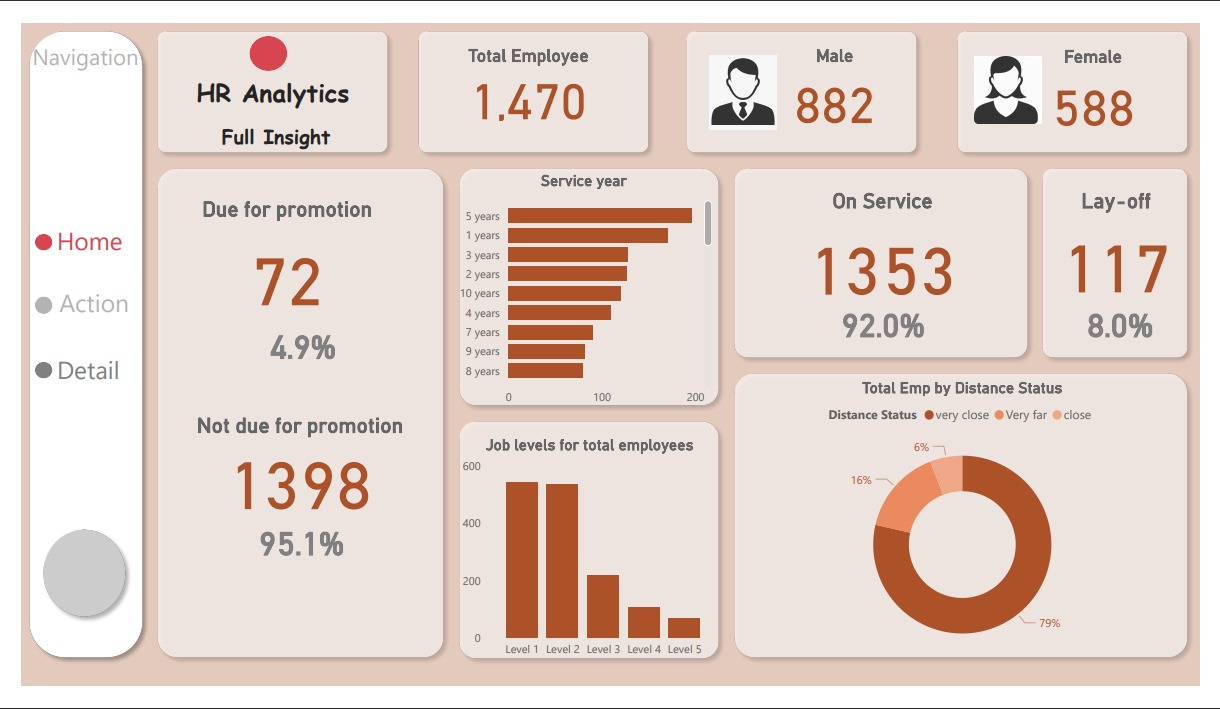

The dashboard page shown, as its layout file describes it:
{"tool":"powerbi","page":{"name":"Page 1","canvas":[1280,720],"ordinal":0},"visuals":[{"type":"shape","box":[0,0,139.9,697.7],"z":0},{"type":"shape","box":[139.9,0,267,149.4],"z":1000},{"type":"shape","box":[139.9,149.4,327.4,548.3],"z":2000},{"type":"shape","box":[467.3,149.4,298.8,275],"z":3000},{"type":"shape","box":[467.3,424.4,298.8,275],"z":4000},{"type":"shape","box":[766.1,149.4,335.4,222.5],"z":5000},{"type":"shape","box":[1101.5,149.4,173.2,222.5],"z":6000},{"type":"shape","box":[766.1,371.9,508.6,325.8],"z":7000},{"type":"shape","box":[422.8,0,267,149.4],"z":8000},{"type":"shape","box":[713.6,0,267,149.4],"z":9000},{"type":"shape","box":[1007.7,0,267,149.4],"z":10000},{"type":"textbox","box":[139.9,52.5,267,49.3],"z":11000},{"type":"textbox","box":[152.6,101.7,247.9,47.7],"z":12000},{"type":"shape","box":[247.9,14.3,41.3,38.1],"z":13000},{"type":"card","title":"Total Employee","fields":{"Values":["All Measures.Total Emp"]},"box":[400.5,23.8,300.4,87.4],"z":14000},{"type":"card","title":"Male","fields":{"Values":["All Measures.Male"]},"box":[766.1,23.8,235.2,95.4],"z":15000},{"type":"card","title":"Female","fields":{"Values":["All Measures.Female"]},"box":[1071.3,25.4,186,98.5],"z":16000},{"type":"image","box":[742.3,28.6,82.6,92.2],"z":17000},{"type":"image","box":[1029.9,30.2,82.6,84.2],"z":18000},{"type":"card","title":"Due for promotion","fields":{"Values":["All Measures.Due for promotion"]},"box":[139.3,189.3,300,136.7],"z":19000},{"type":"card","fields":{"Values":["All Measures.% due for promotion"]},"box":[205,311.5,201.9,74.7],"z":20000},{"type":"card","title":"Not due for promotion","fields":{"Values":["All Measures.not Due for promotion"]},"box":[152.6,424.4,300.4,109.7],"z":21000},{"type":"card","fields":{"Values":["All Measures.%Not due"]},"box":[225.7,542,157.4,41.3],"z":22000},{"type":"barChart","title":"Service year","fields":{"Category":["HR Analytics Data.Service year"],"Y":["All Measures.Total Emp"]},"box":[467.3,160.5,287.7,263.8],"z":23000},{"type":"columnChart","title":"Job levels for total employees","fields":{"Category":["HR Analytics Data.Job levels"],"Y":["All Measures.Total Emp"]},"box":[473.6,448.2,287.7,249.5],"z":24000},{"type":"card","title":"On Service","fields":{"Values":["All Measures.on service"]},"box":[785.2,179.6,300.4,131.9],"z":25000},{"type":"card","fields":{"Values":["All Measures.%on service"]},"box":[858.3,292.5,155.8,66.8],"z":26000},{"type":"card","title":"Lay-off","fields":{"Values":["All Measures.lay-off"]},"box":[1107.8,179.6,162.1,127.2],"z":27000},{"type":"card","fields":{"Values":["All Measures.%lay-off"]},"box":[1141.2,281.3,104.9,89],"z":28000},{"type":"donutChart","fields":{"Category":["HR Analytics Data.Distance Status"],"Y":["All Measures.Total Emp"]},"box":[786.8,386.2,470.5,311.5],"z":29000},{"type":"textbox","box":[0,14.3,139.9,63.6],"z":30000},{"type":"textbox","box":[34,212.7,106,68.7],"z":31000},{"type":"shape","box":[15.3,228.7,18.7,18.7],"z":32000},{"type":"textbox","box":[24.7,280,109.3,46],"z":33000},{"type":"shape","box":[15.3,297.3,18.7,18.7],"z":34000},{"type":"textbox","box":[33.7,353.2,87.9,71.6],"z":35000},{"type":"shape","box":[14.7,367.9,18.9,18.4],"z":35001},{"type":"shape","box":[16.4,541.8,105.5,110.9],"z":35002}]}

Visuals, with their boxes on the page's 1280x720 design canvas (x1, y1, x2, y2). These are canvas units, not pixel positions in the 1220x709 screenshot, which may show the page scaled, cropped or inside an application window:
shape: left=0, top=0, right=140, bottom=698
shape: left=140, top=0, right=407, bottom=149
shape: left=140, top=149, right=467, bottom=698
shape: left=467, top=149, right=766, bottom=424
shape: left=467, top=424, right=766, bottom=699
shape: left=766, top=149, right=1102, bottom=372
shape: left=1102, top=149, right=1275, bottom=372
shape: left=766, top=372, right=1275, bottom=698
shape: left=423, top=0, right=690, bottom=149
shape: left=714, top=0, right=981, bottom=149
shape: left=1008, top=0, right=1275, bottom=149
textbox: left=140, top=52, right=407, bottom=102
textbox: left=153, top=102, right=400, bottom=149
shape: left=248, top=14, right=289, bottom=52
"Total Employee" card: left=400, top=24, right=701, bottom=111
"Male" card: left=766, top=24, right=1001, bottom=119
"Female" card: left=1071, top=25, right=1257, bottom=124
image: left=742, top=29, right=825, bottom=121
image: left=1030, top=30, right=1112, bottom=114
"Due for promotion" card: left=139, top=189, right=439, bottom=326
card - All Measures.% due for promotion: left=205, top=312, right=407, bottom=386
"Not due for promotion" card: left=153, top=424, right=453, bottom=534
card - All Measures.%Not due: left=226, top=542, right=383, bottom=583
"Service year" barChart: left=467, top=160, right=755, bottom=424
"Job levels for total employees" columnChart: left=474, top=448, right=761, bottom=698
"On Service" card: left=785, top=180, right=1086, bottom=312
card - All Measures.%on service: left=858, top=292, right=1014, bottom=359
"Lay-off" card: left=1108, top=180, right=1270, bottom=307
card - All Measures.%lay-off: left=1141, top=281, right=1246, bottom=370
donutChart - HR Analytics Data.Distance Status x All Measures.Total Emp: left=787, top=386, right=1257, bottom=698
textbox: left=0, top=14, right=140, bottom=78
textbox: left=34, top=213, right=140, bottom=281
shape: left=15, top=229, right=34, bottom=247
textbox: left=25, top=280, right=134, bottom=326
shape: left=15, top=297, right=34, bottom=316
textbox: left=34, top=353, right=122, bottom=425
shape: left=15, top=368, right=34, bottom=386
shape: left=16, top=542, right=122, bottom=653
